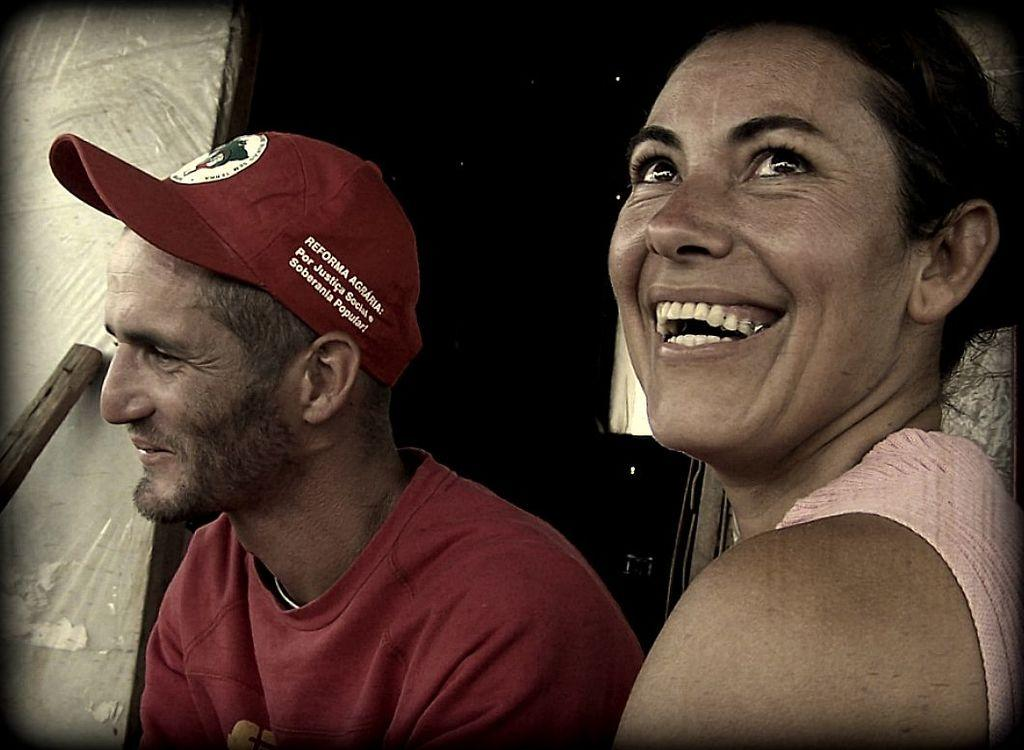Hat: (47, 131, 424, 390)
